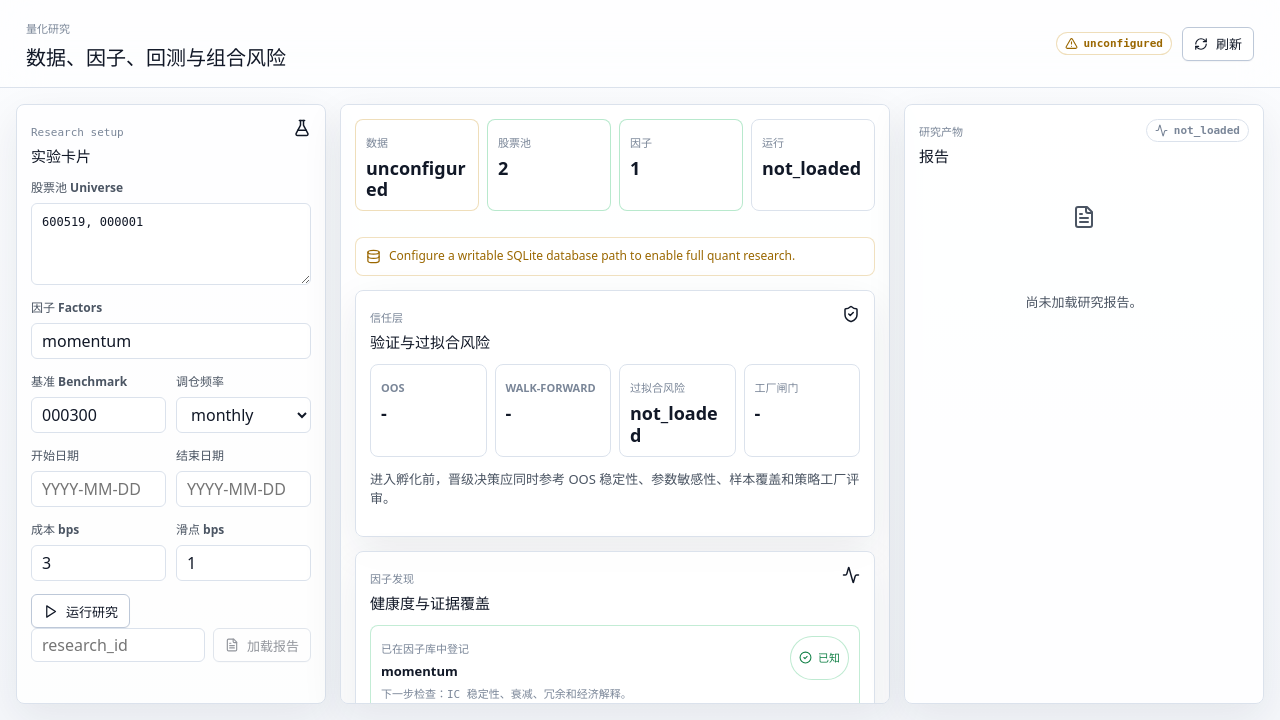
Test case: QuantResearchWorkspace › renders database preflight and a blocked research artifact
Check: the text "Configure a writable SQLite database path to enable full quant research." is shown, box [355,238,875,276]
Click the button "运行研究". click: {"x": 80, "y": 611}
box: [31,594,130,628]
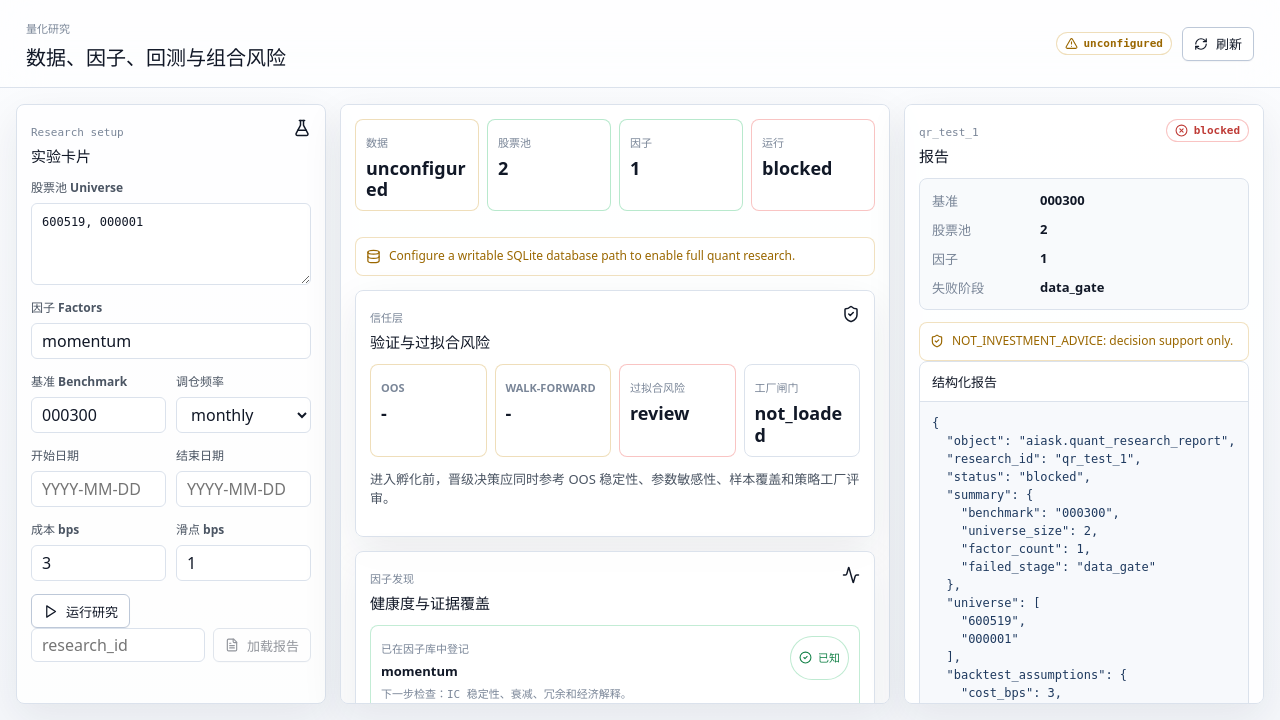
Check: the text "qr_test_1" is shown, box [919,126,979,139]
Check: the text "blocked" is shown, box [762,156,832,180]
Check: the text "NOT_INVESTMENT_ADVICE: decision support only." is shown, box [919,322,1249,361]
